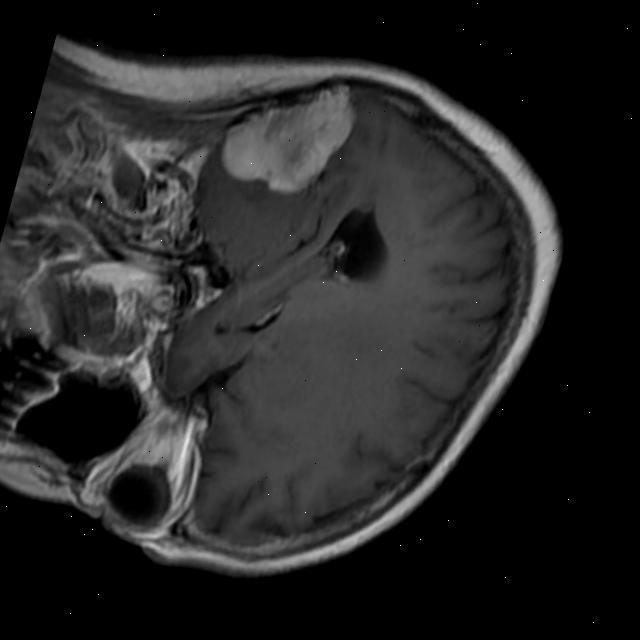Meningioma: (205, 54, 369, 215)
